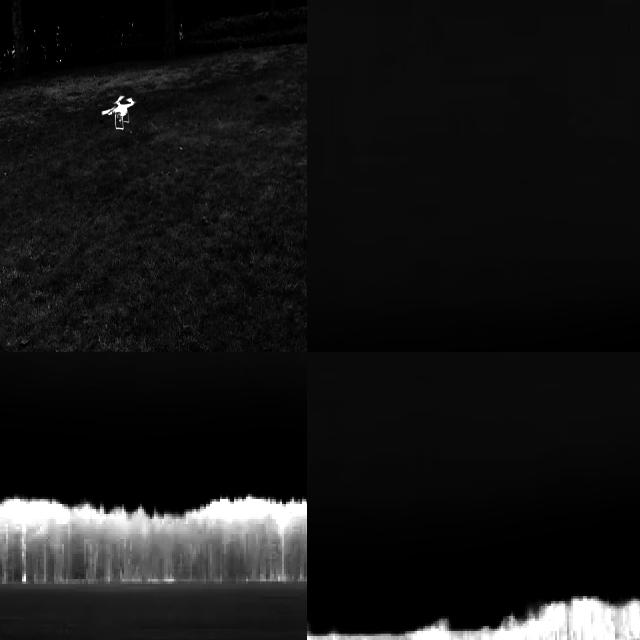drone: (100, 86, 138, 131)
